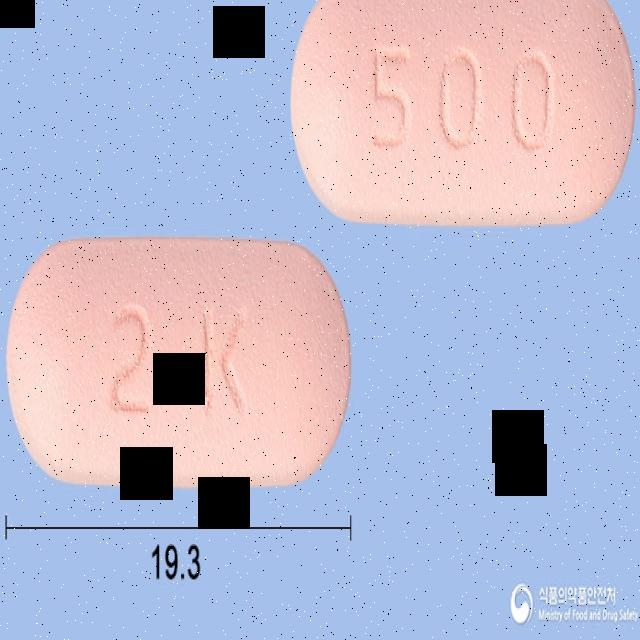Liflocin: (8, 239, 351, 490), (291, 0, 636, 224)
